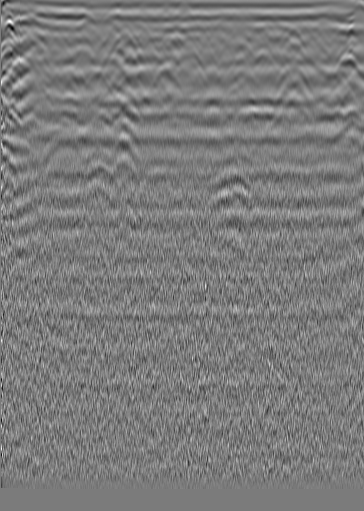가스: (79, 163, 115, 194)
상수: (283, 24, 303, 44)
오수: (2, 19, 22, 39)
우수: (162, 22, 182, 42)
